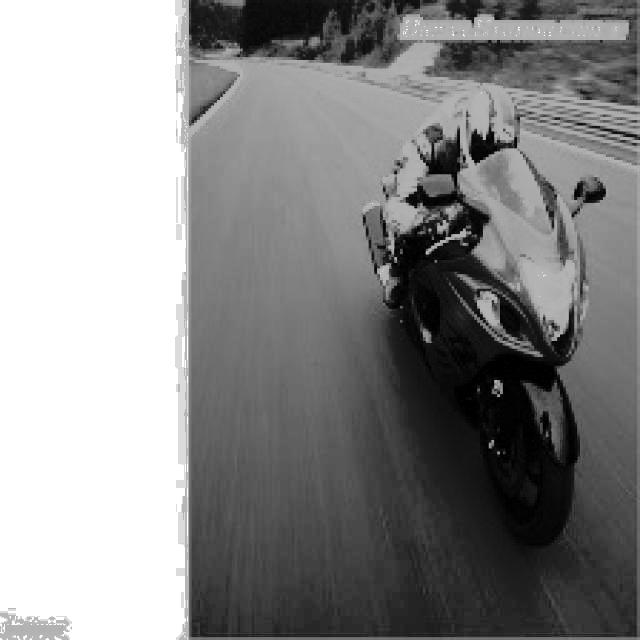Bike: (376, 145, 592, 563)
